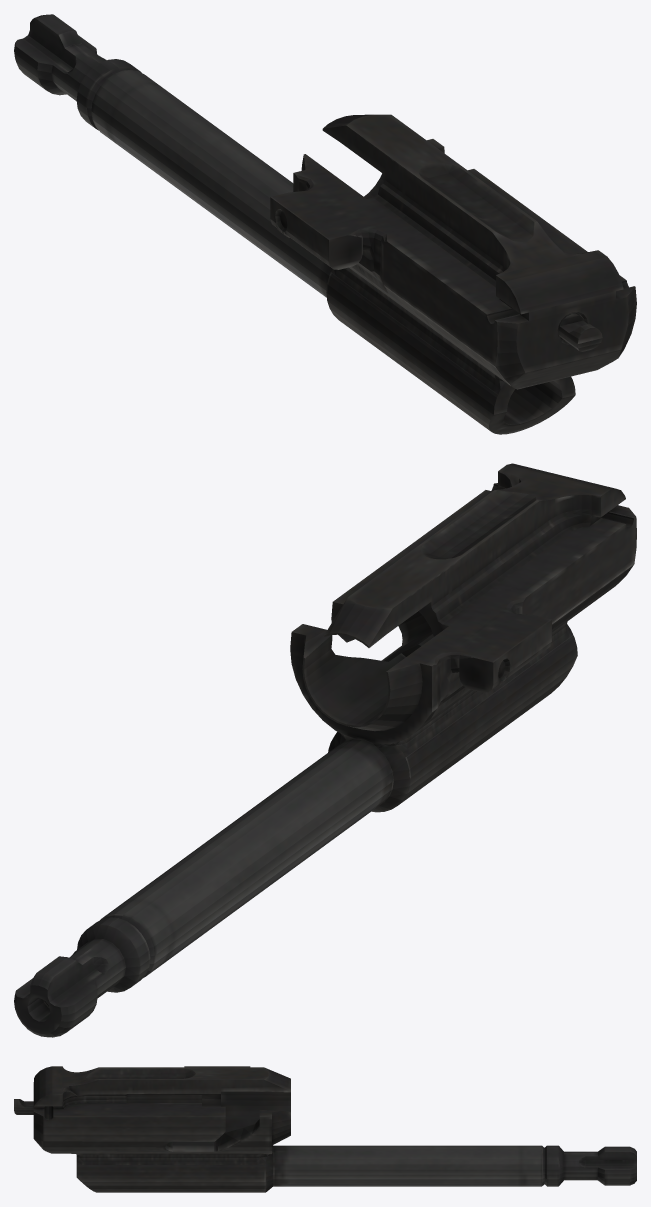
The picture shows the model from 3 angles, top to bottom: view 1: azimuth 30°, elevation 25°; view 2: azimuth 150°, elevation 25°; view 3: azimuth 270°, elevation 25°; orthographic projection. The views are drawn at different scales.
Parts seen in each view (by area): view 1: TW_644674a13d52156624001fbc_PZ_Import; view 2: TW_644674a13d52156624001fbc_PZ_Import; view 3: TW_644674a13d52156624001fbc_PZ_Import.
Part boxes in pixels (x1,y1,x2,y2): TW_644674a13d52156624001fbc_PZ_Import: [14, 14, 636, 434]; TW_644674a13d52156624001fbc_PZ_Import: [14, 463, 636, 1037]; TW_644674a13d52156624001fbc_PZ_Import: [14, 1066, 636, 1192].
Bounding box in the file's own units: 0.0209 × 0.1086 × 0.0224.
Materials: 1 (1 with a texture image).
